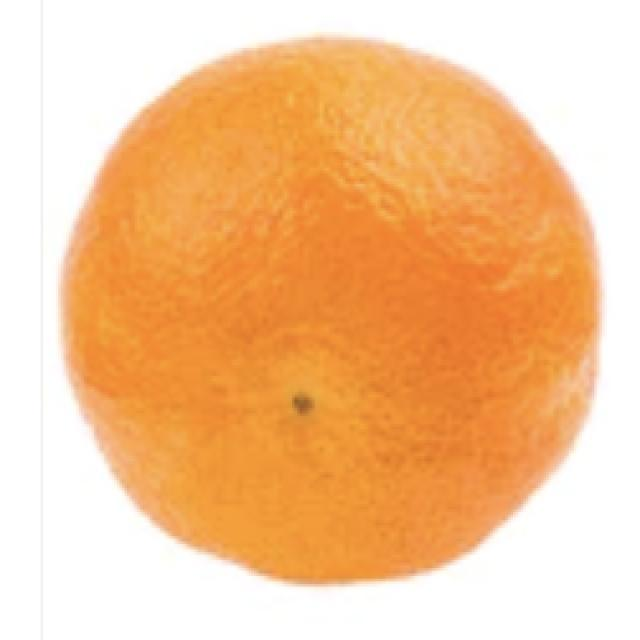Orange: (60, 34, 602, 585)
